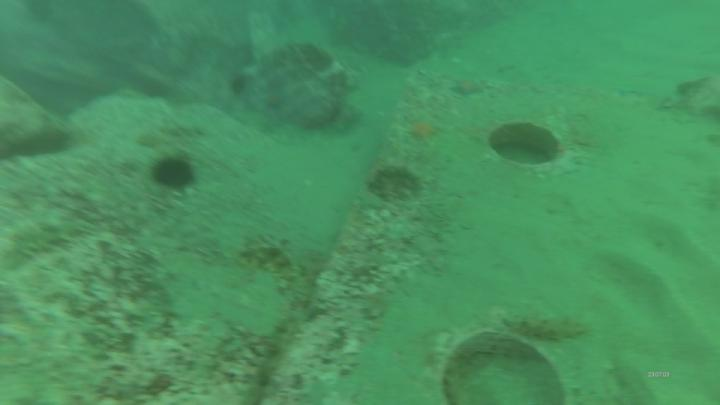echinus: (149, 154, 195, 194)
holothurian: (501, 310, 595, 345), (244, 235, 301, 291)
starfish: (406, 116, 443, 145), (451, 76, 485, 101)
